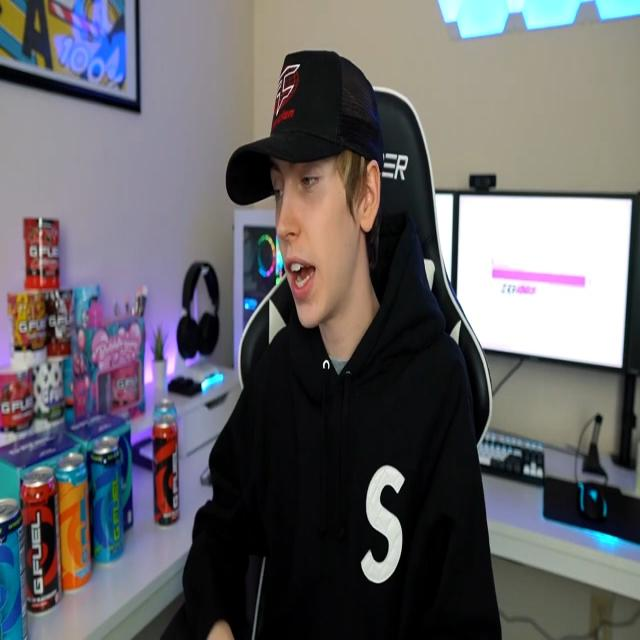can: (24, 463, 62, 610), (53, 451, 91, 595), (0, 496, 30, 640), (90, 434, 122, 566), (152, 418, 182, 531)
